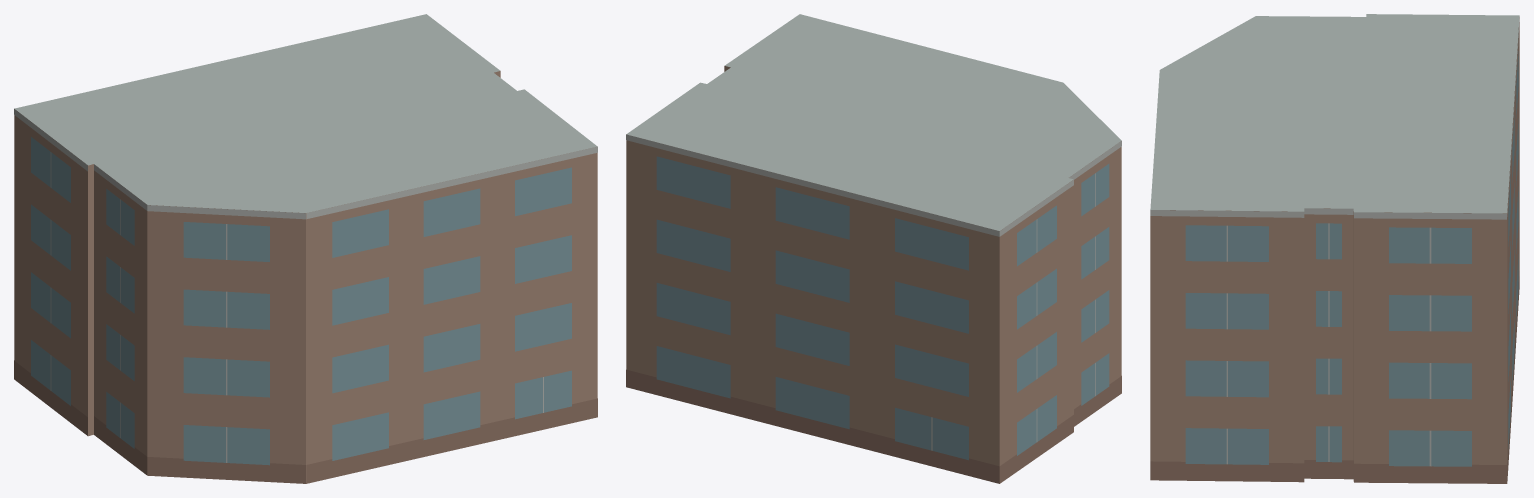
The model's file is survey-upis-32904312.glb.
The picture shows the model from 3 angles, left to right: view 1: azimuth 30°, elevation 25°; view 2: azimuth 150°, elevation 25°; view 3: azimuth 270°, elevation 25°; orthographic projection. The views are drawn at different scales.
Parts seen in each view (by area): view 1: survey-upis-32904312.tmp; view 2: survey-upis-32904312.tmp; view 3: survey-upis-32904312.tmp.
Boxes of the visible parts, bbox=[...] form: survey-upis-32904312.tmp: bbox=[14, 14, 597, 483]; survey-upis-32904312.tmp: bbox=[626, 14, 1121, 483]; survey-upis-32904312.tmp: bbox=[1150, 14, 1519, 483].
Size of the model in its own units: 16.85 by 10.65 by 13.19.
